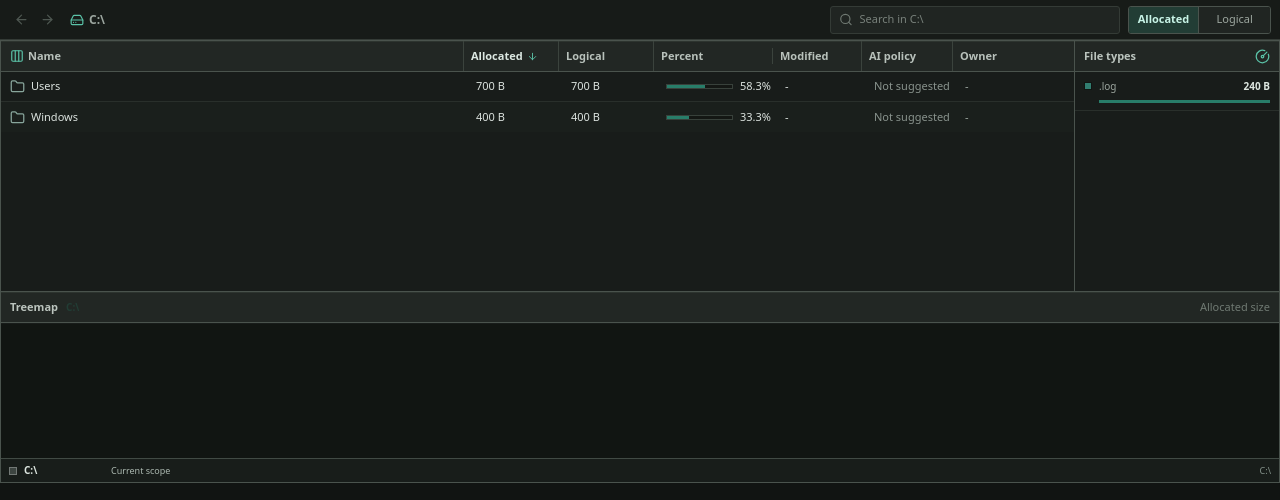
Test case: AnalyzerWorkspace › navigates bounded folders, searches recursively, and hands selection to the agent
The image size is (1280, 500).
Expected: the text "Users" is shown, [31, 78, 60, 95]
Expected: the text ".log" is shown, [1099, 79, 1116, 93]
Click the text "Windows".
click(54, 117)  # box [31, 109, 78, 125]
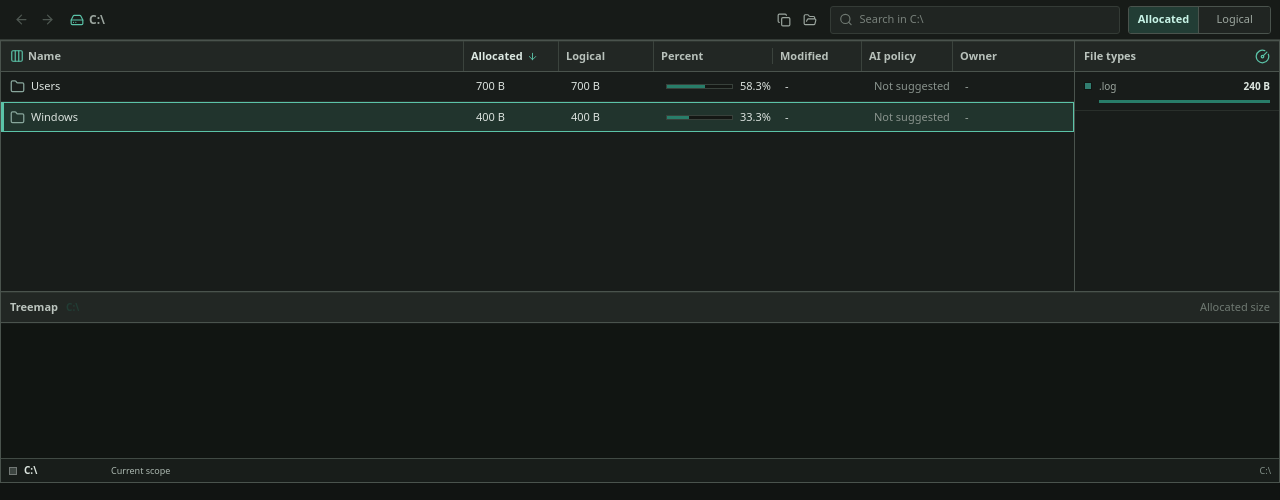
Click the button named "Reveal selected item in Explorer".
click(810, 20)  # box [798, 8, 822, 32]
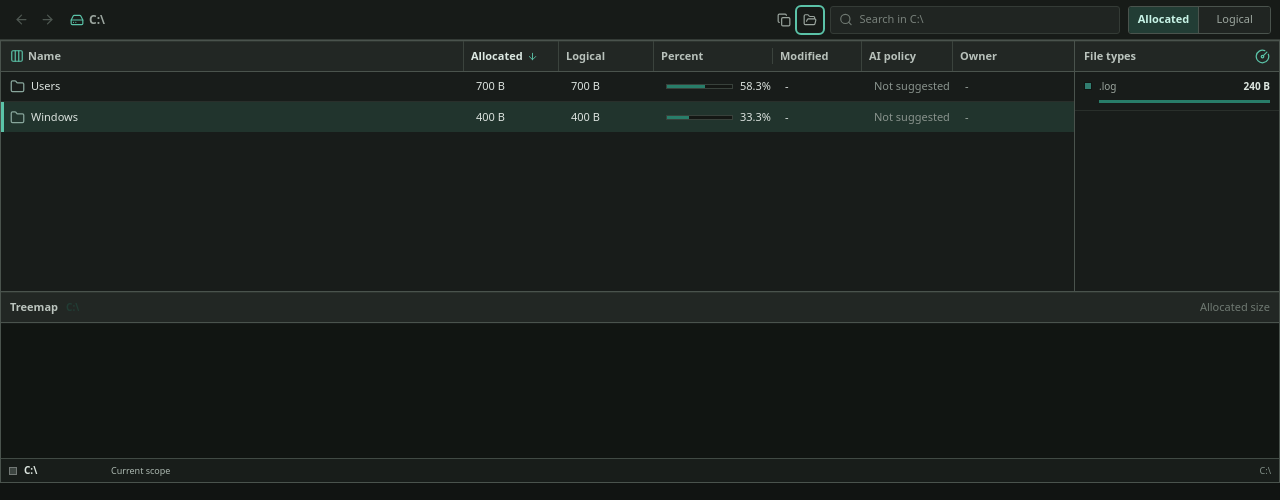
Double-click the text "Users".
double_click(46, 87)  # box [31, 78, 60, 95]
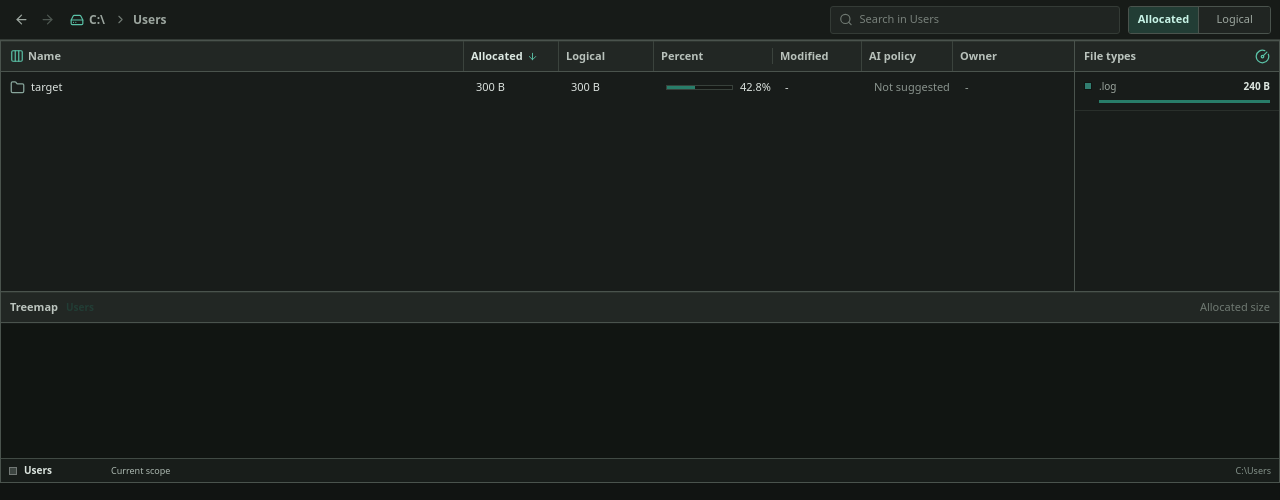
Expected: the button "Users" is shown, [130, 8, 170, 32]
Type "target" into the field named "Search storage items".
click(985, 20); type("target")  # box [860, 11, 1111, 28]
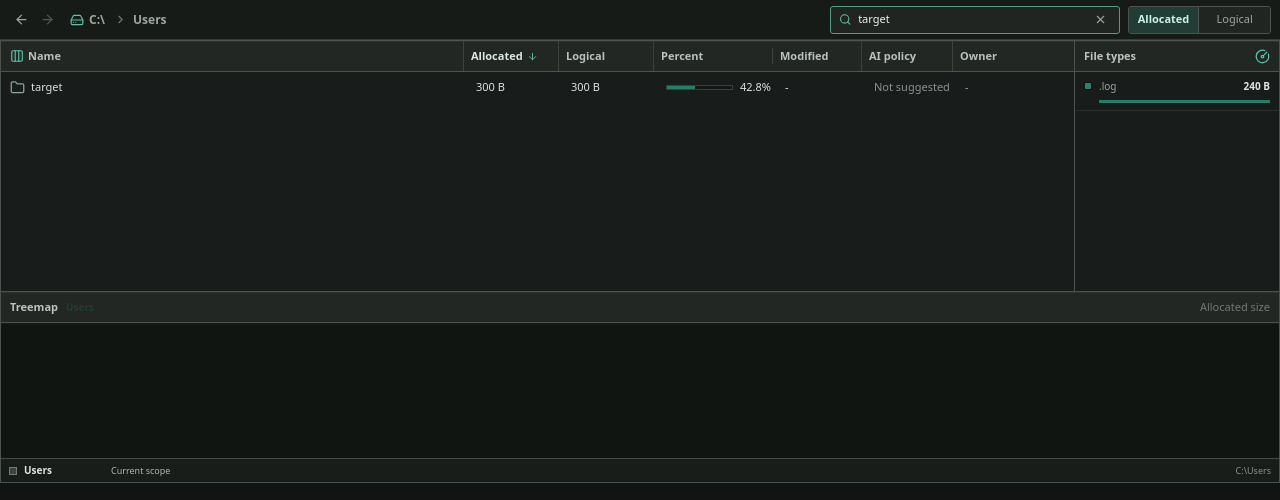
Expected: the text "target" is shown, [31, 79, 62, 95]
Click the button named "Back".
click(21, 20)  # box [9, 8, 33, 32]
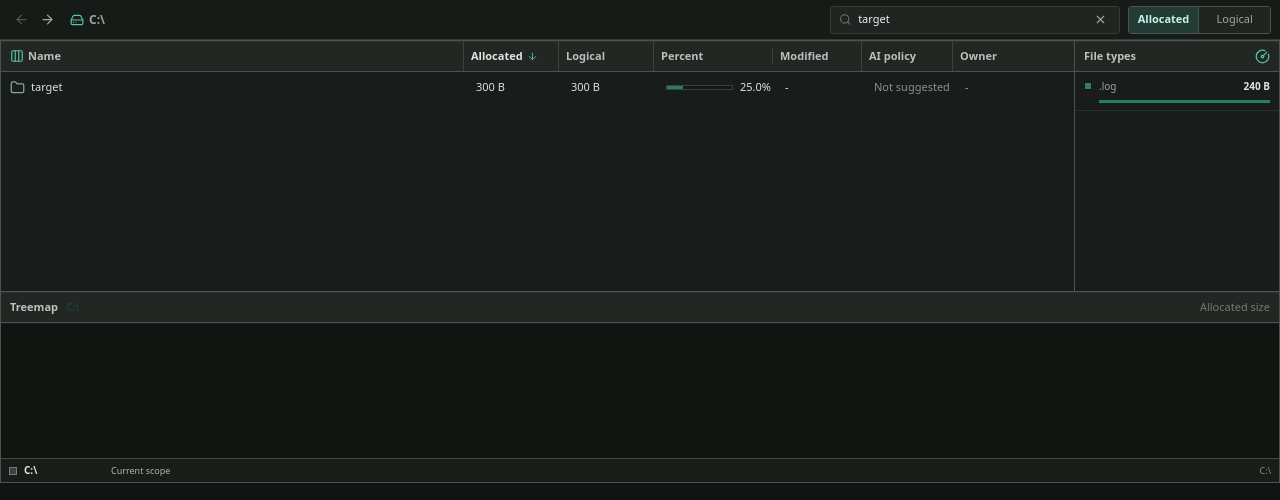
Expected: the button "Users" is gone
